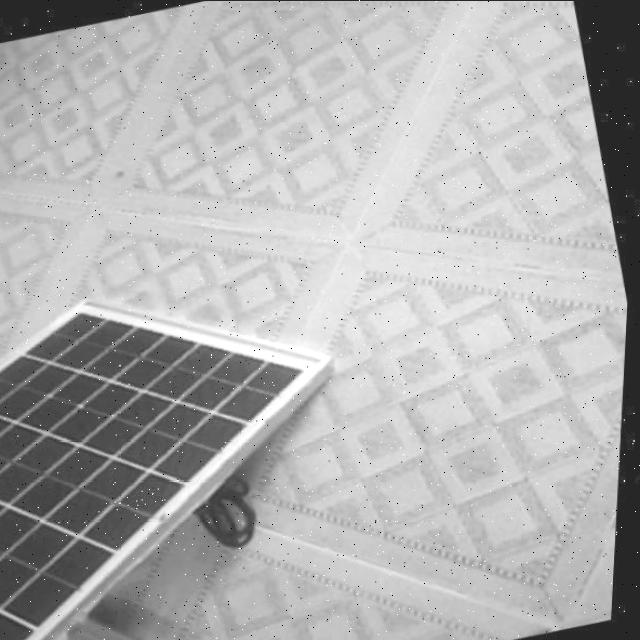Normal Solar Panel: (0, 246, 403, 640)
